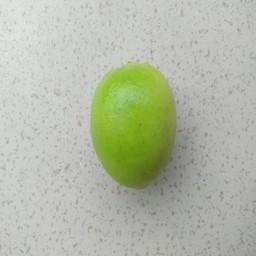Good_lime: (86, 57, 182, 192)
